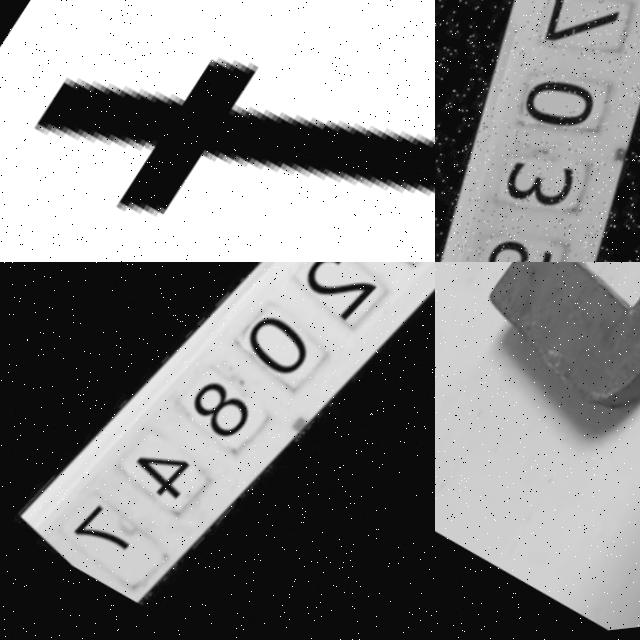0: (494, 38, 625, 172), (221, 288, 338, 407)
2: (281, 262, 395, 345)
3: (475, 121, 604, 252)
4: (110, 416, 220, 527)
7: (53, 481, 159, 587), (517, 0, 640, 90)
8: (163, 352, 280, 469)
9: (458, 201, 581, 262)
J: (457, 262, 640, 456)
T: (3, 0, 435, 262)
